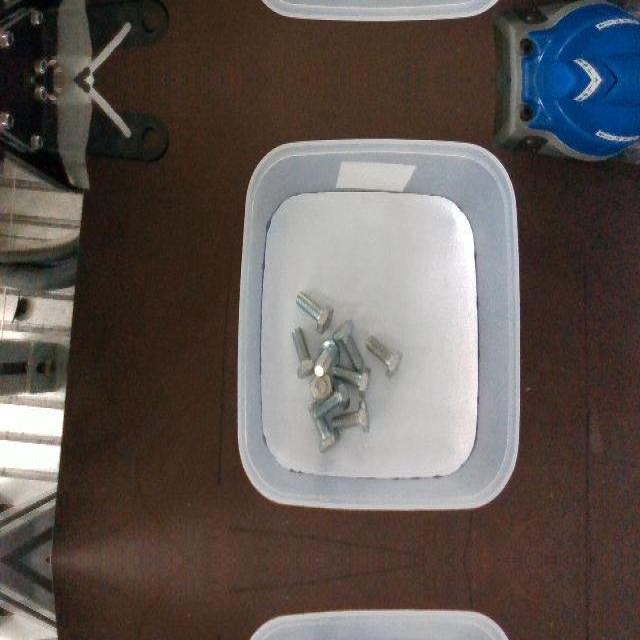screw: (309, 377, 350, 421), (333, 320, 366, 372), (365, 334, 403, 378), (295, 291, 333, 333), (291, 326, 317, 378), (332, 399, 371, 433), (314, 338, 339, 376)
